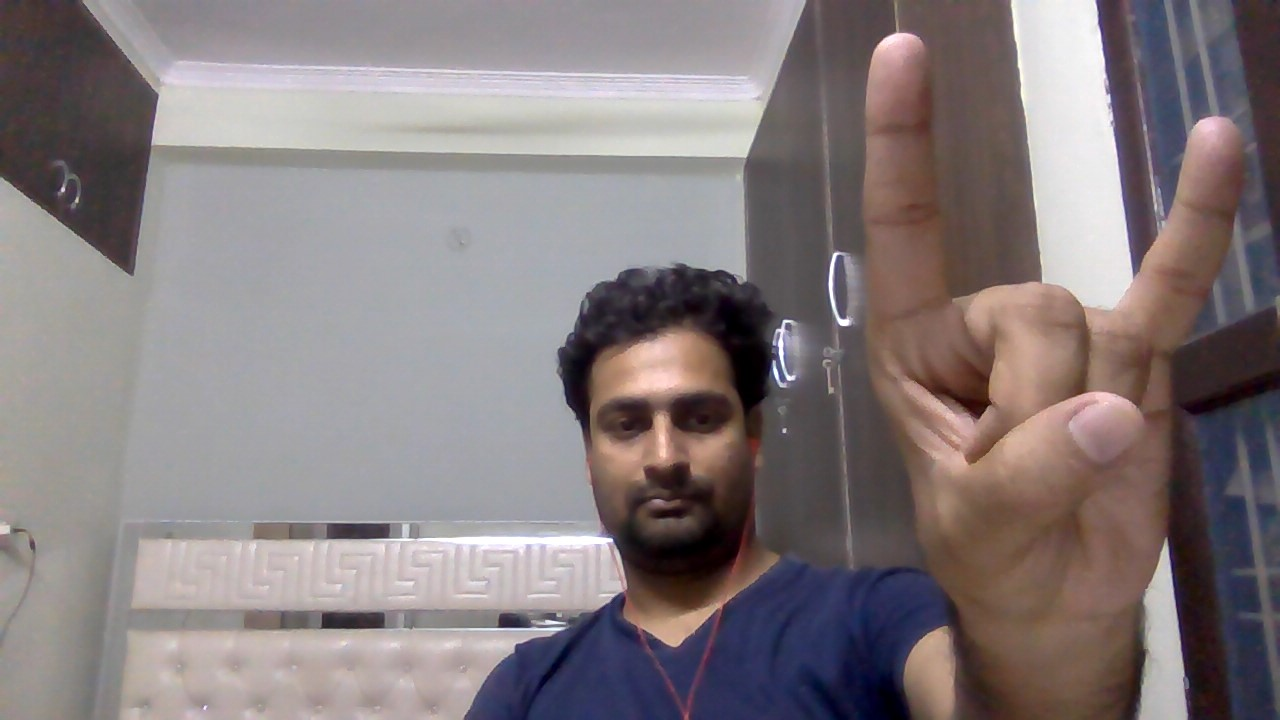Select All: (837, 26, 1257, 651)
